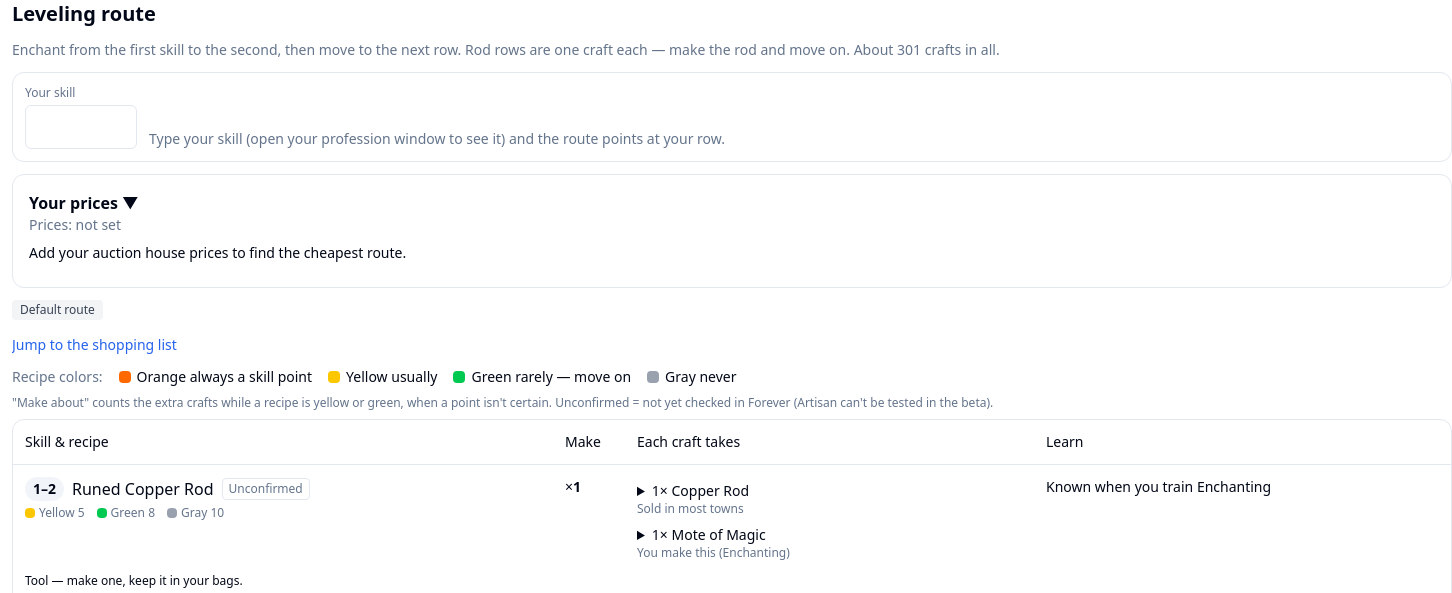
Your prices panel › reads a typed price back and switches to the cheapest route
The width and height of the screenshot is (1452, 593).
Step 1. Click the button "Your prices ▼ Prices: not set" → coordinates (76, 203), box [29,191,1435,235]
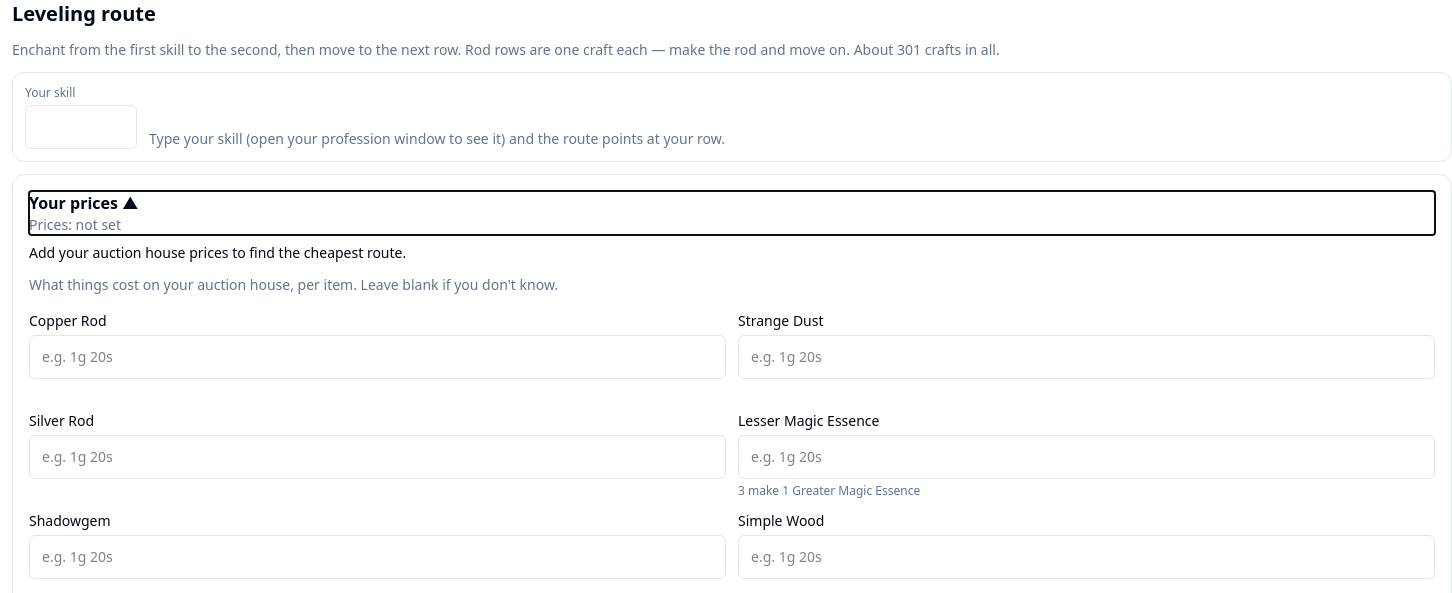
Step 2. Type "1g 20s" into the field labelled "Strange Dust" → coordinates (1086, 357), box [738,335,1435,379]
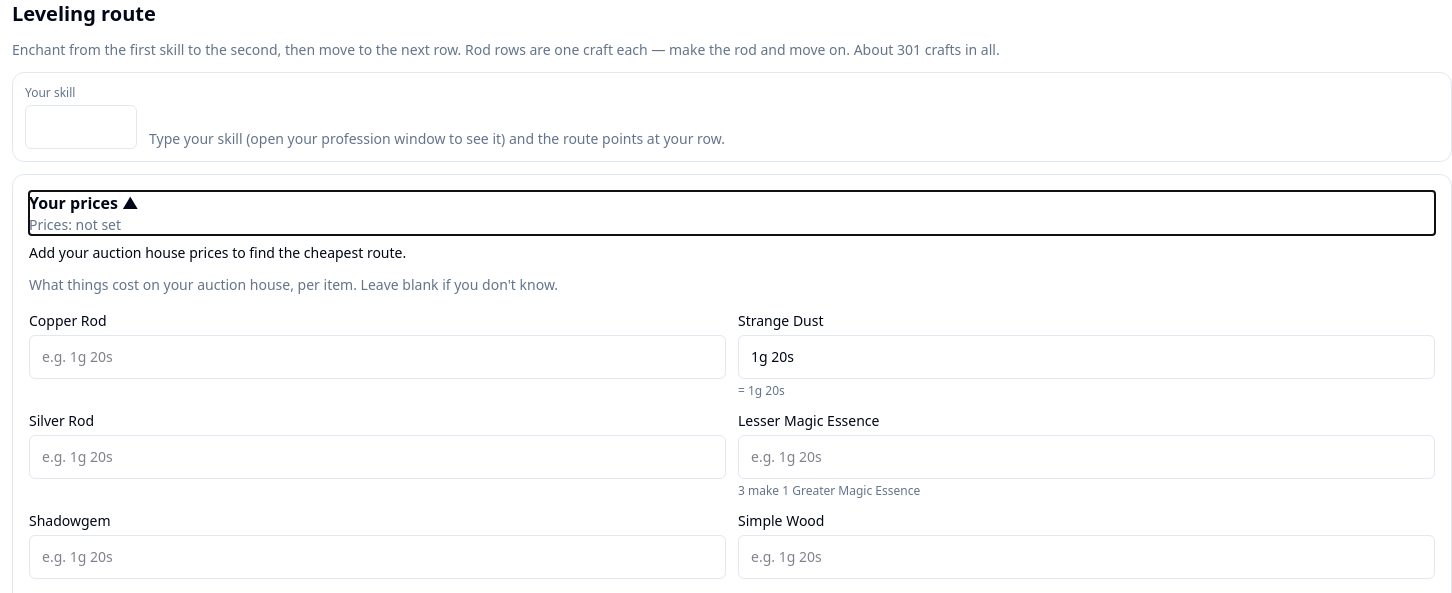
Now the text "= 1g 20s" is shown, box [738,382,785,399]
Step 3. Leave the field labelled "Strange Dust", box [738,335,1435,379]
(page scrolled)
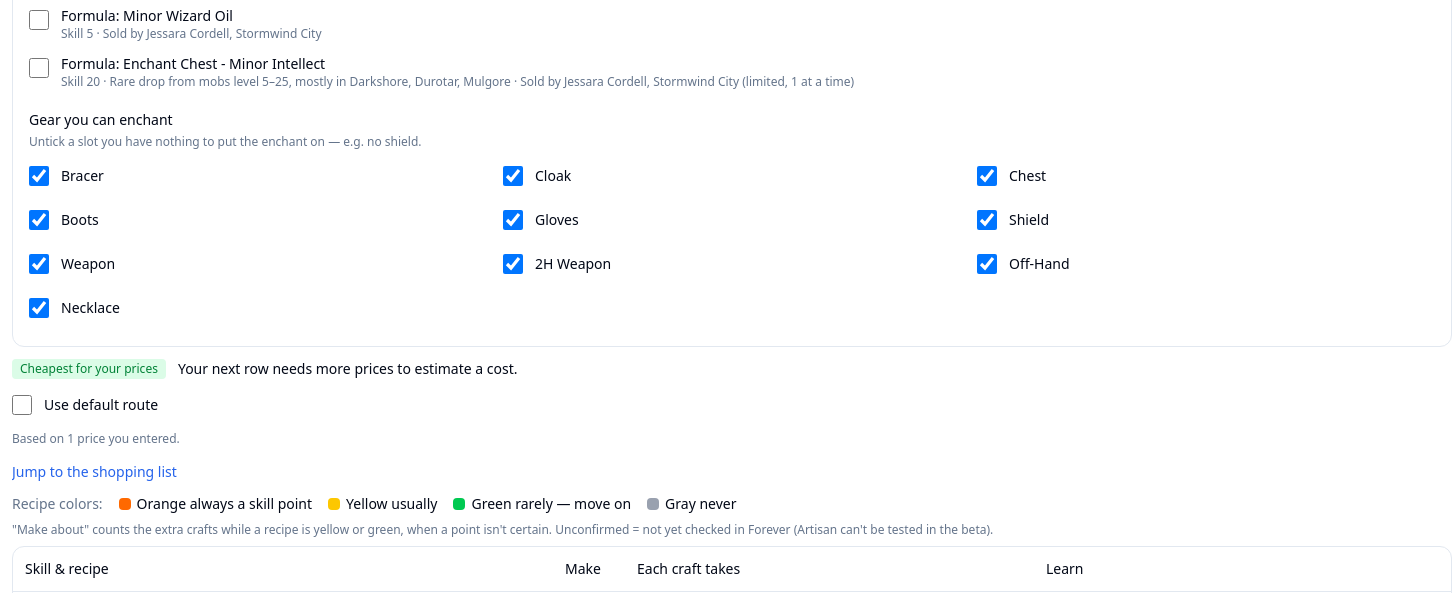
Now the text "Cheapest for your prices" is shown, box [12,359,166,379]
Now the text "Based on 1 price you entered." is shown, box [12,430,180,447]
Step 4. Click the checkbox labelled "Use default route" → coordinates (22, 405), box [12,395,32,415]
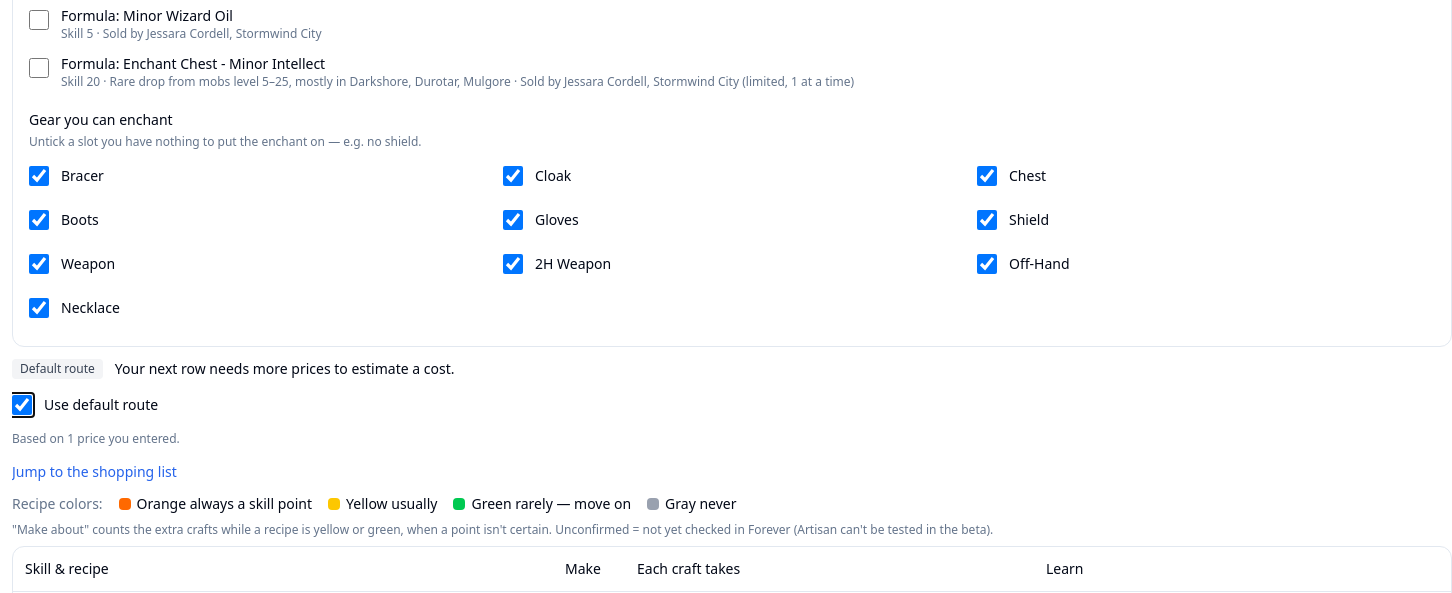
Now the text "Default route" is shown, box [12,359,103,379]
